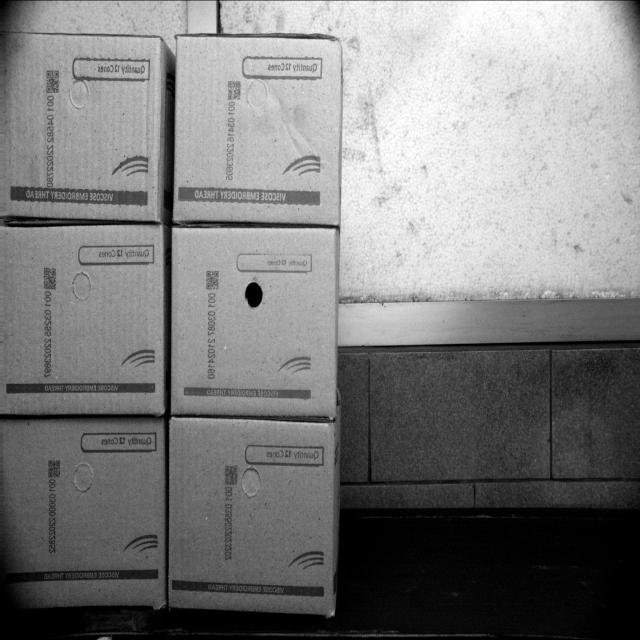cardboxes: (168, 416, 336, 614), (175, 35, 342, 222), (170, 232, 340, 412), (1, 425, 168, 606), (0, 226, 165, 409), (2, 35, 157, 216)
